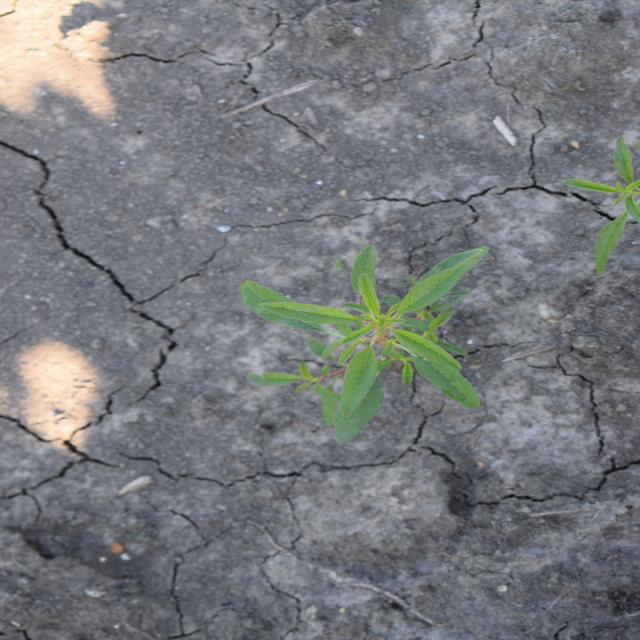Waterhemp: (235, 244, 492, 445), (555, 133, 637, 277)
